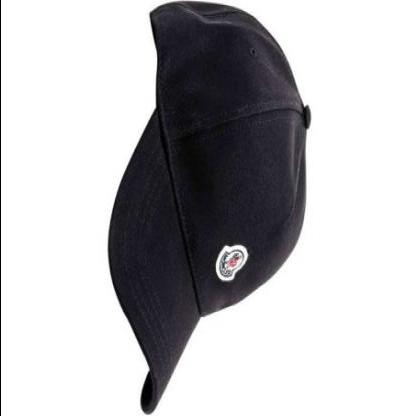cap: (103, 5, 314, 415)
